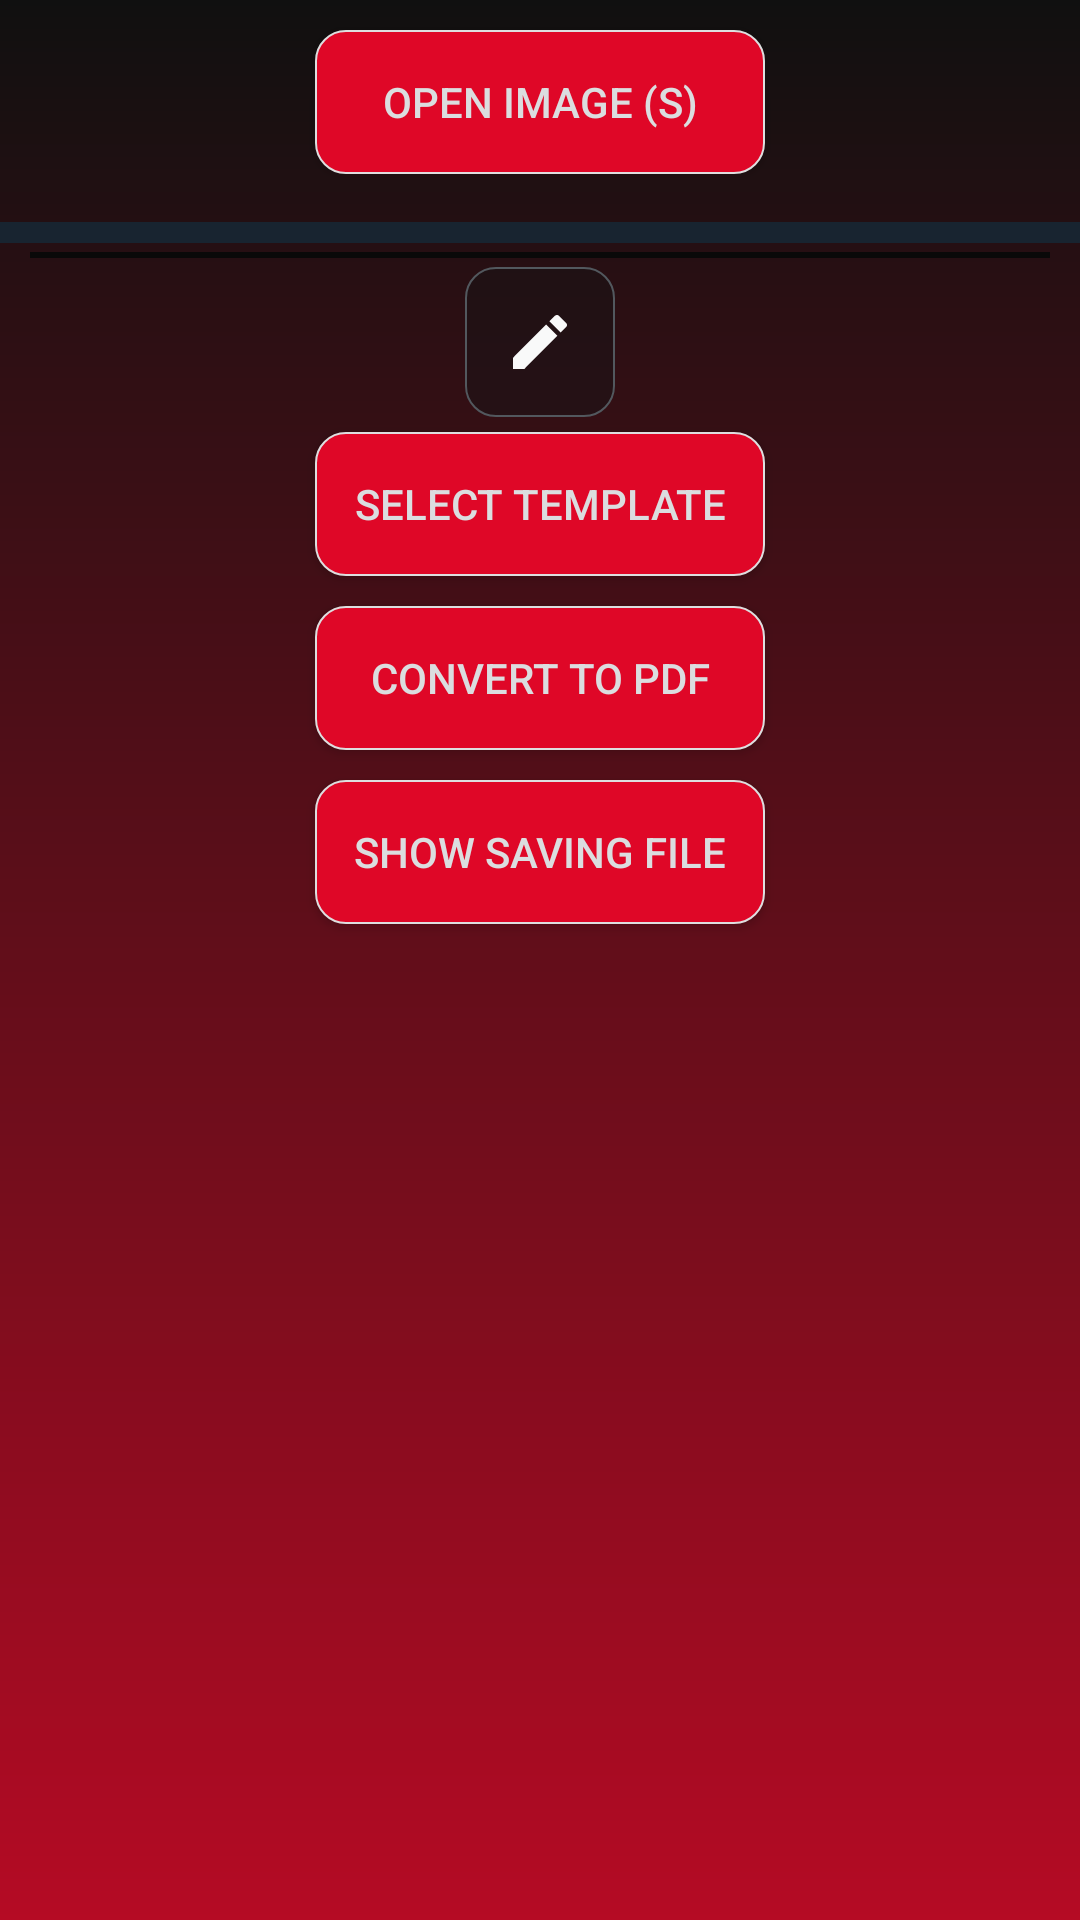

Screen size 1080 × 1920. Icon name, then its center in pixels as point (x, y):
edit: point (540, 342)
